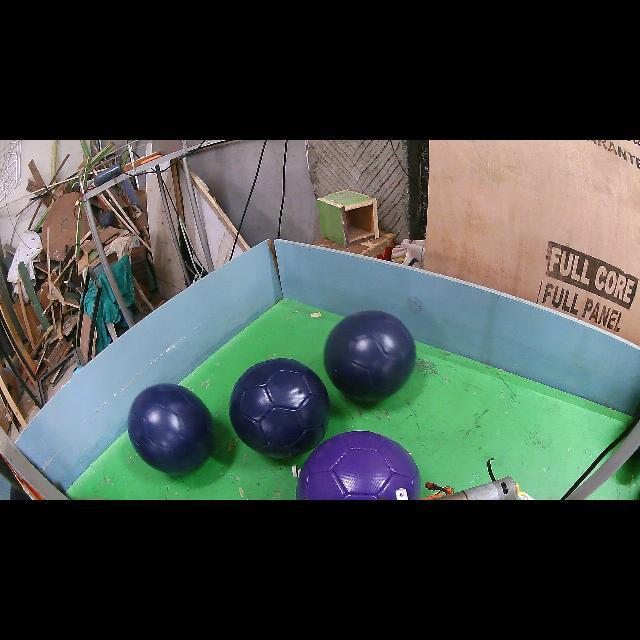B: (230, 358, 330, 458), (324, 310, 416, 402), (128, 384, 214, 475)
P: (298, 431, 420, 500)
